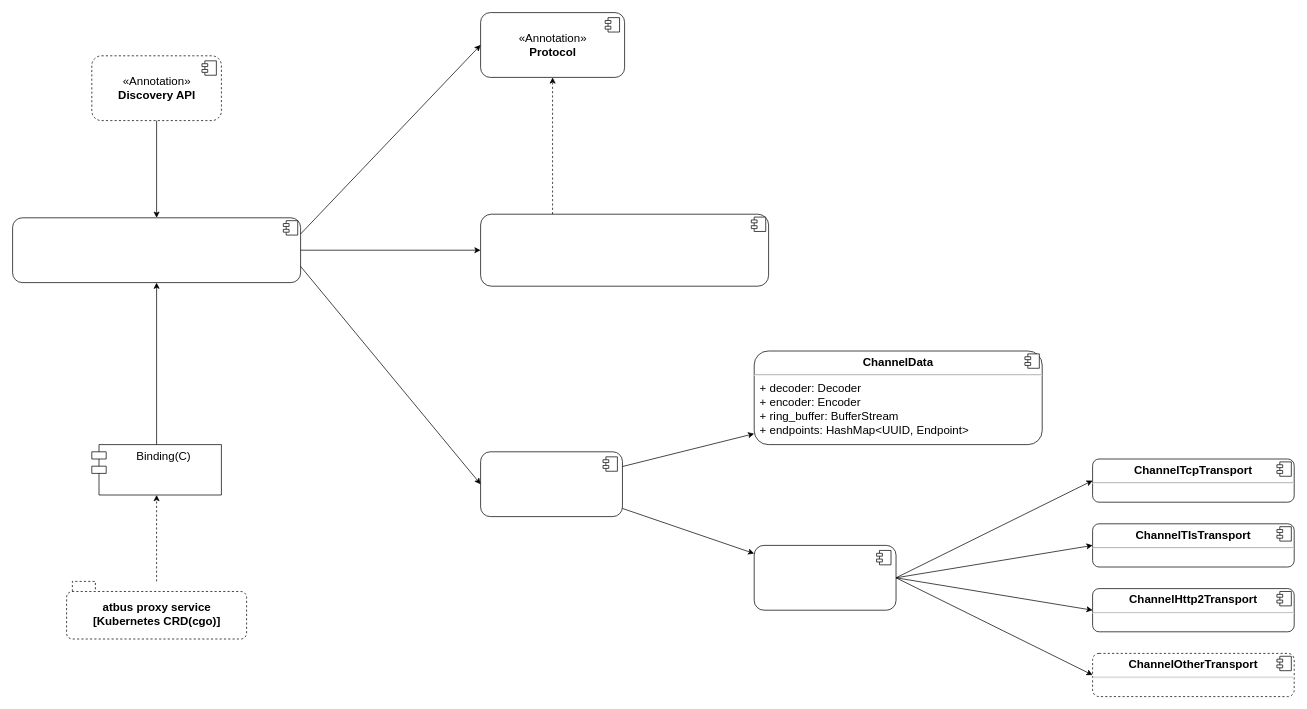
This 1307x709 diagram has some shape labels left out. Here are the shapes that lost their labels. From the top down, the centre of each, then its label:
the point at 156,250: Node + endpoints: HashMap<UUID,Endpoint> + channels: HashMap<Address, Channel>
the point at 624,249: Endpoint + messages: CompleteQueue<Me> + channels: HashMap<Address, Channel>
the point at 551,484: «Annotation» Channel
the point at 824,577: «Annotation» ChannelTransport
